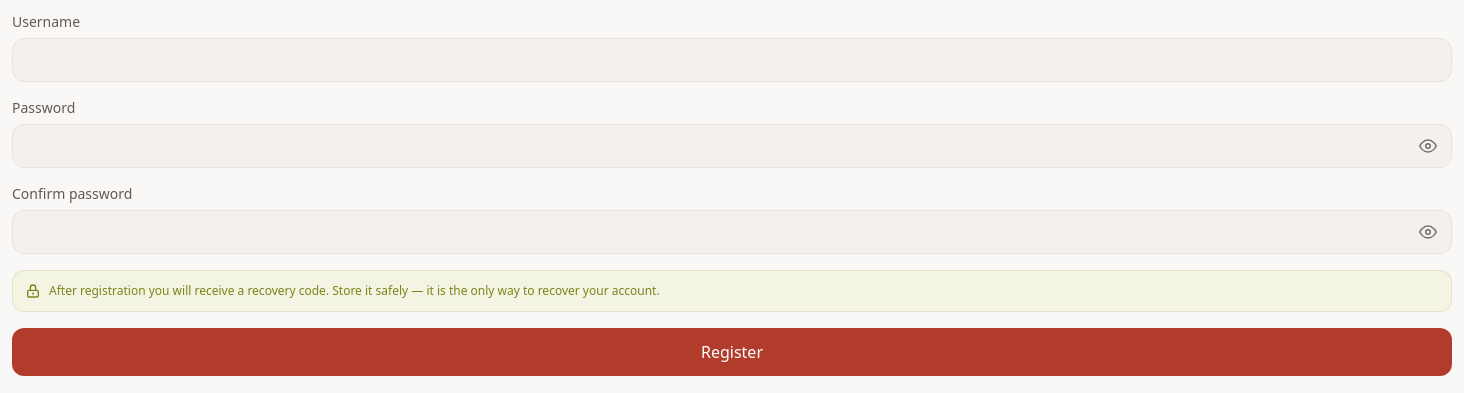
it: SignupFlow — recovery-gate screen › Continue button is disabled until acknowledgment is ticked
Type "alice" into the field with id "signup-user".
click(732, 60); type("alice")  # box [12,38,1452,82]
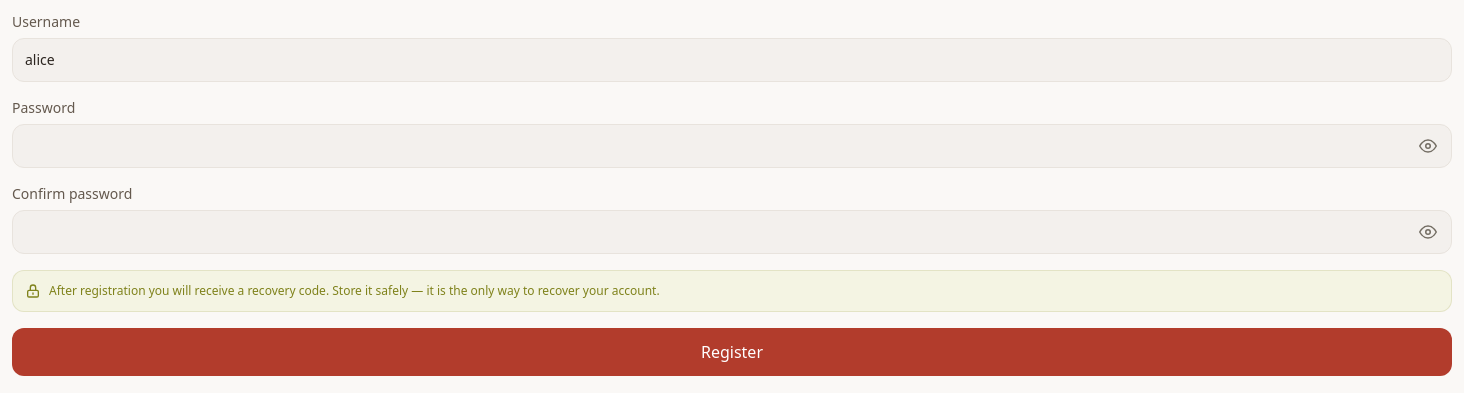
Type "longenoughpw12" into the password field with id "signup-pass".
click(732, 146); type("longenoughpw12")  # box [12,124,1452,168]
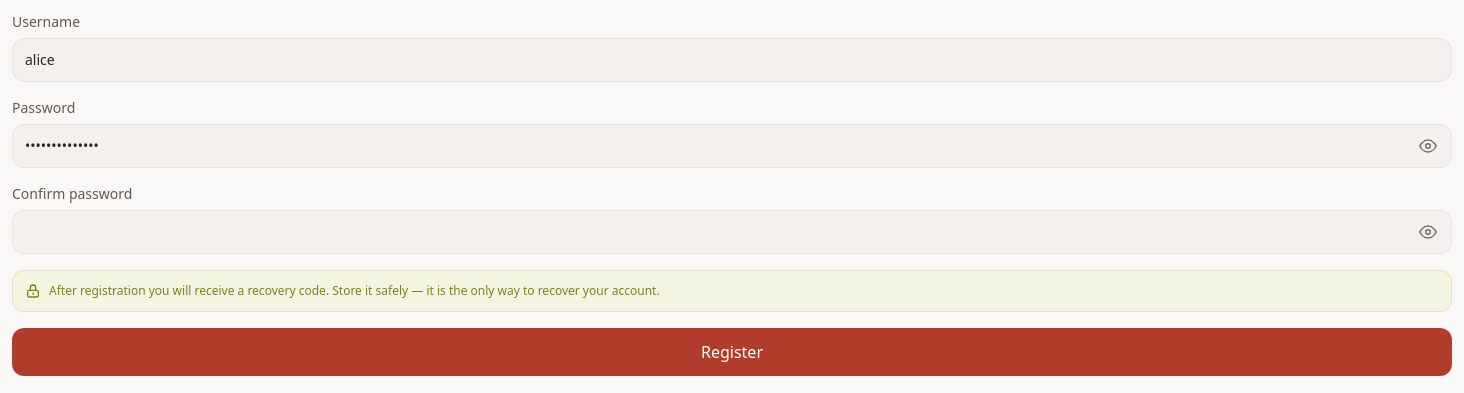
Type "longenoughpw12" into the password field with id "signup-pass2".
click(732, 232); type("longenoughpw12")  # box [12,210,1452,254]
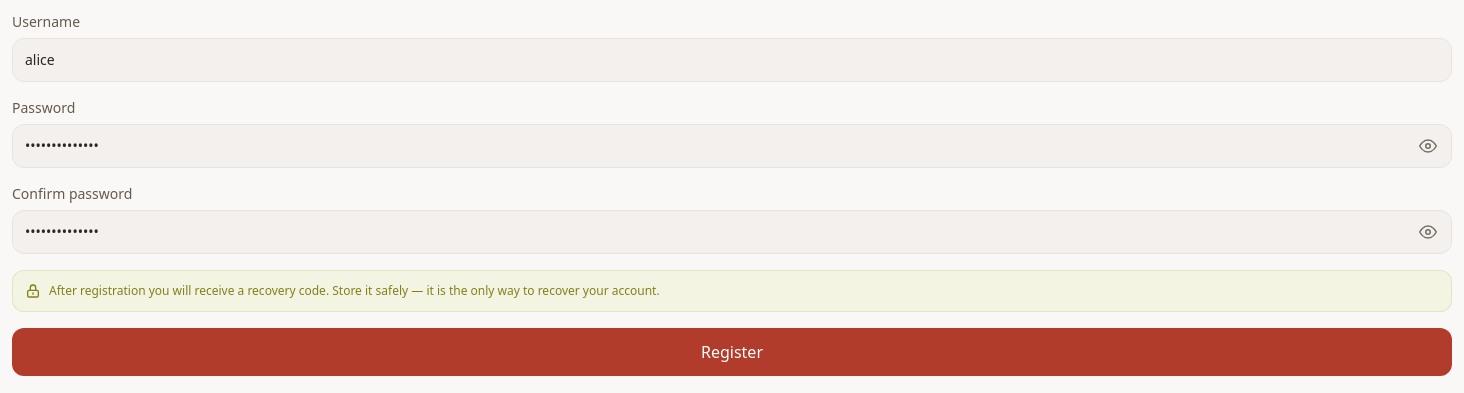
Click the submit button.
click(732, 352)  # box [12,328,1452,376]
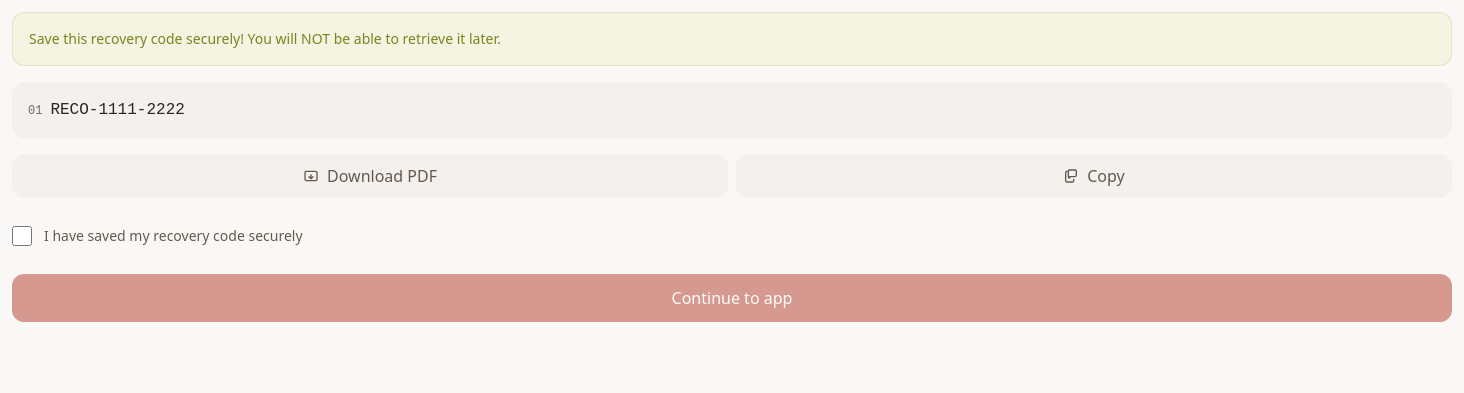
Now the text "RECO-1111-2222" is shown, box [50,98,185,122]
Now the button "Continue to app" is disabled, box [12,274,1452,322]
Click the checkbox labelled "I have saved my recovery code securely".
click(22, 236)  # box [12,226,32,246]
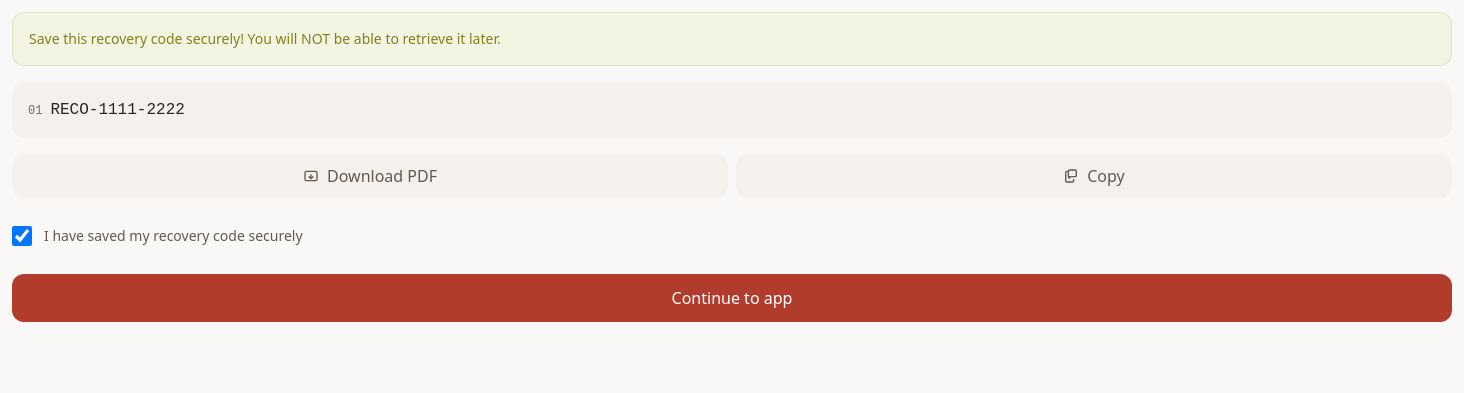
Now the button "Continue to app" is enabled, box [12,274,1452,322]
